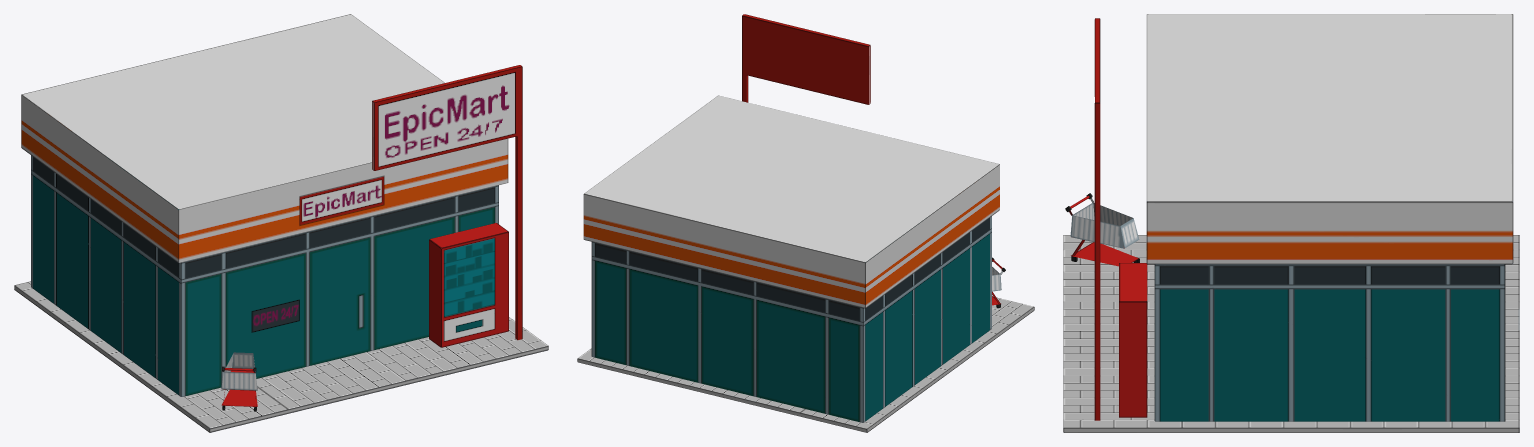
Rendered from hosue.fbx.
3 views of the same model, side by side, from view 1: azimuth 30°, elevation 25°; view 2: azimuth 150°, elevation 25°; view 3: azimuth 270°, elevation 25° (orthographic). The views are drawn at different scales.
Visible parts, largest first — view 1: group, plane, cart; view 2: group, plane; view 3: group, plane, cart.
Boxes of the visible parts, left/top/right/bottom form: group: left=21, top=14, right=522, bottom=396; plane: left=14, top=281, right=548, bottom=432; cart: left=221, top=352, right=257, bottom=411; group: left=583, top=14, right=999, bottom=422; plane: left=577, top=297, right=1034, bottom=432; group: left=1094, top=14, right=1513, bottom=421; plane: left=1063, top=235, right=1519, bottom=432; cart: left=1065, top=193, right=1139, bottom=266.
Bounding box in the file's own units: 1000 × 794 × 1000.
1 material, 1 textured.
